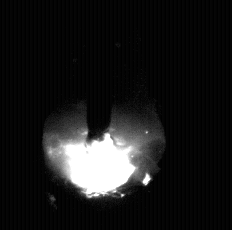arame: (87, 0, 113, 144)
poca: (43, 0, 165, 230)
